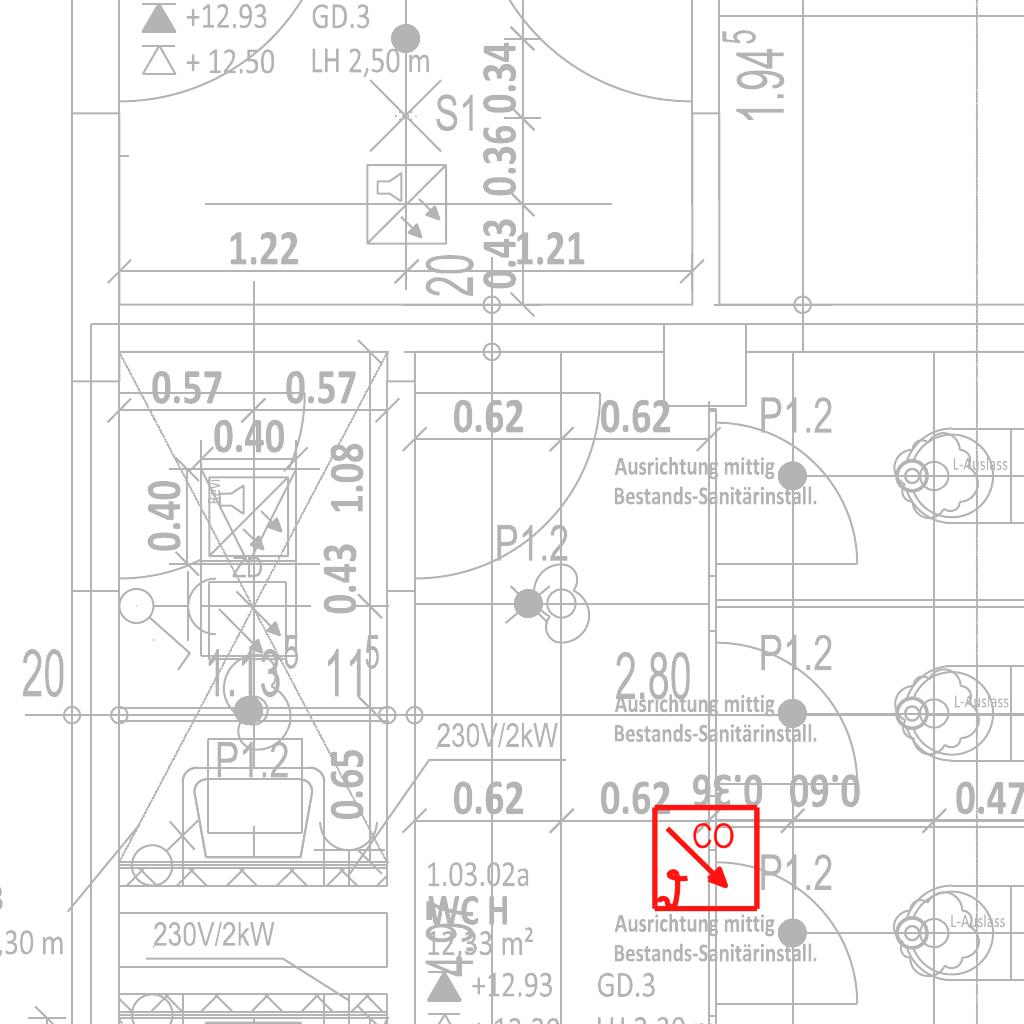ROA_Rauchmelder_optisch_mit_Signalgeber_(Sockelsirene): (650, 803, 763, 916)
